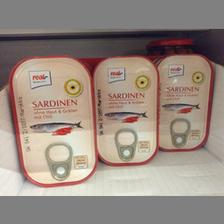Fisch: (8, 55, 96, 187), (92, 55, 158, 165), (154, 53, 214, 151)
